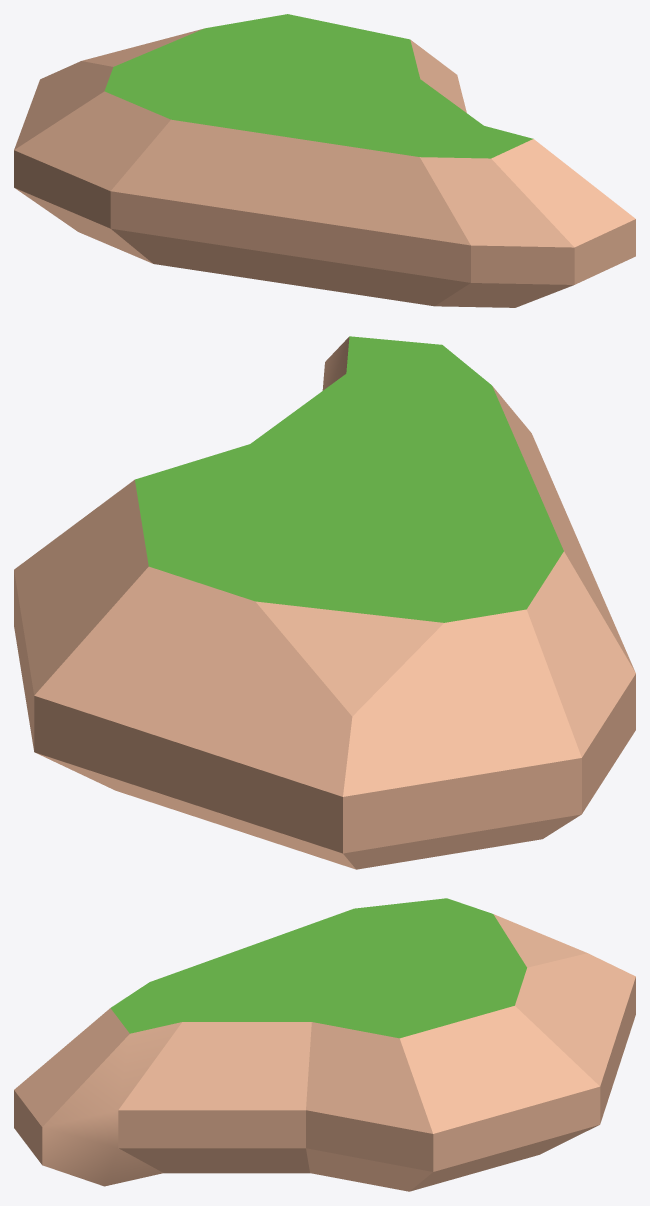
Rendered from rock_0.fbx.
3 views of the same model, one above another, from view 1: azimuth 30°, elevation 25°; view 2: azimuth 150°, elevation 25°; view 3: azimuth 270°, elevation 25° (orthographic). The views are drawn at different scales.
Visible parts, largest first — view 1: rock_0; view 2: rock_0; view 3: rock_0.
Part boxes in pixels (bbox=[...]): rock_0: bbox=[14, 14, 635, 307]; rock_0: bbox=[14, 336, 635, 869]; rock_0: bbox=[14, 898, 635, 1191].
Bounding box in the file's own units: 0.7849 × 0.2598 × 1.02.
1 material, 1 textured.
